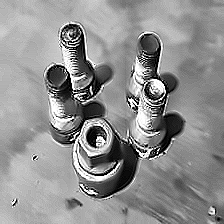tiny_holes: (204, 202, 220, 219), (8, 197, 22, 210), (29, 152, 41, 166)
